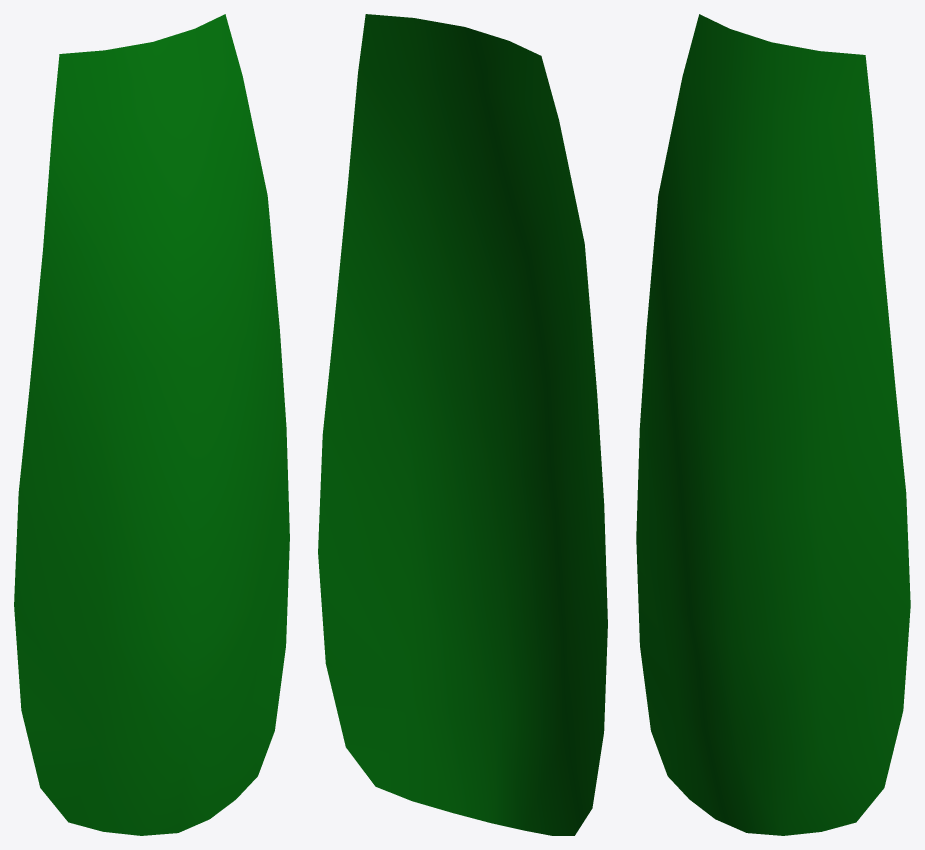
Rendered from MD_nail_square_HandL.Little.fbx.
3 renders of one model, left to right at view 1: azimuth 30°, elevation 25°; view 2: azimuth 150°, elevation 25°; view 3: azimuth 330°, elevation 25°, orthographic. The views are drawn at different scales.
Visible parts, largest first — view 1: MD_nail_square_HandL.Little; view 2: MD_nail_square_HandL.Little; view 3: MD_nail_square_HandL.Little.
Part boxes in pixels (box(x1,y1,x2,y2)): MD_nail_square_HandL.Little: box(14, 14, 289, 835); MD_nail_square_HandL.Little: box(318, 14, 607, 835); MD_nail_square_HandL.Little: box(636, 14, 910, 835).
Size of the model in its own units: 0.5883 by 1.58 by 0.1824.
